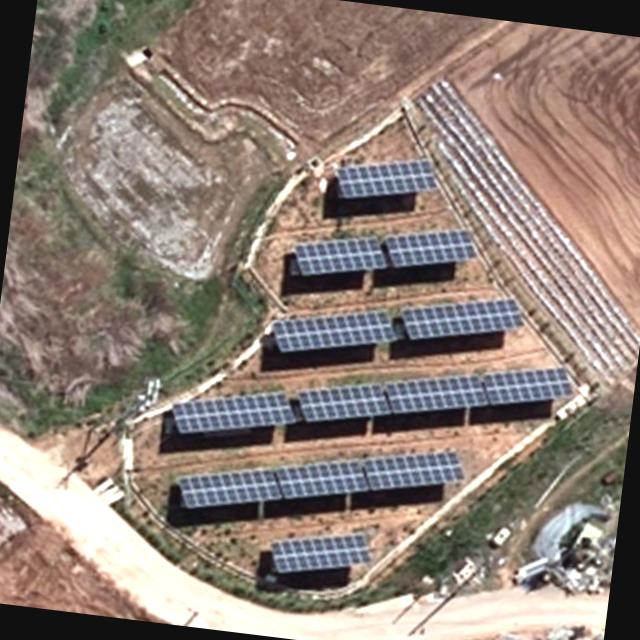solar: (260, 282, 399, 374), (392, 272, 530, 362), (163, 368, 301, 457), (377, 356, 490, 436), (288, 360, 396, 442), (361, 430, 468, 510), (326, 138, 441, 212), (262, 515, 378, 588), (165, 452, 282, 524), (285, 212, 390, 290), (381, 208, 482, 286), (474, 352, 576, 425), (270, 444, 371, 517)
